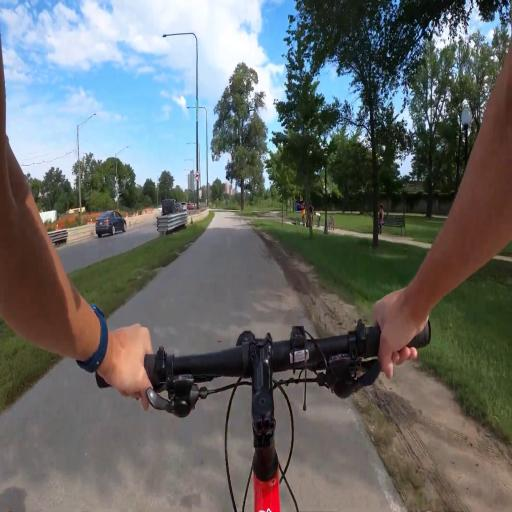Street_Light: (162, 30, 202, 204), (75, 107, 99, 217), (184, 101, 212, 194), (182, 137, 203, 196)
